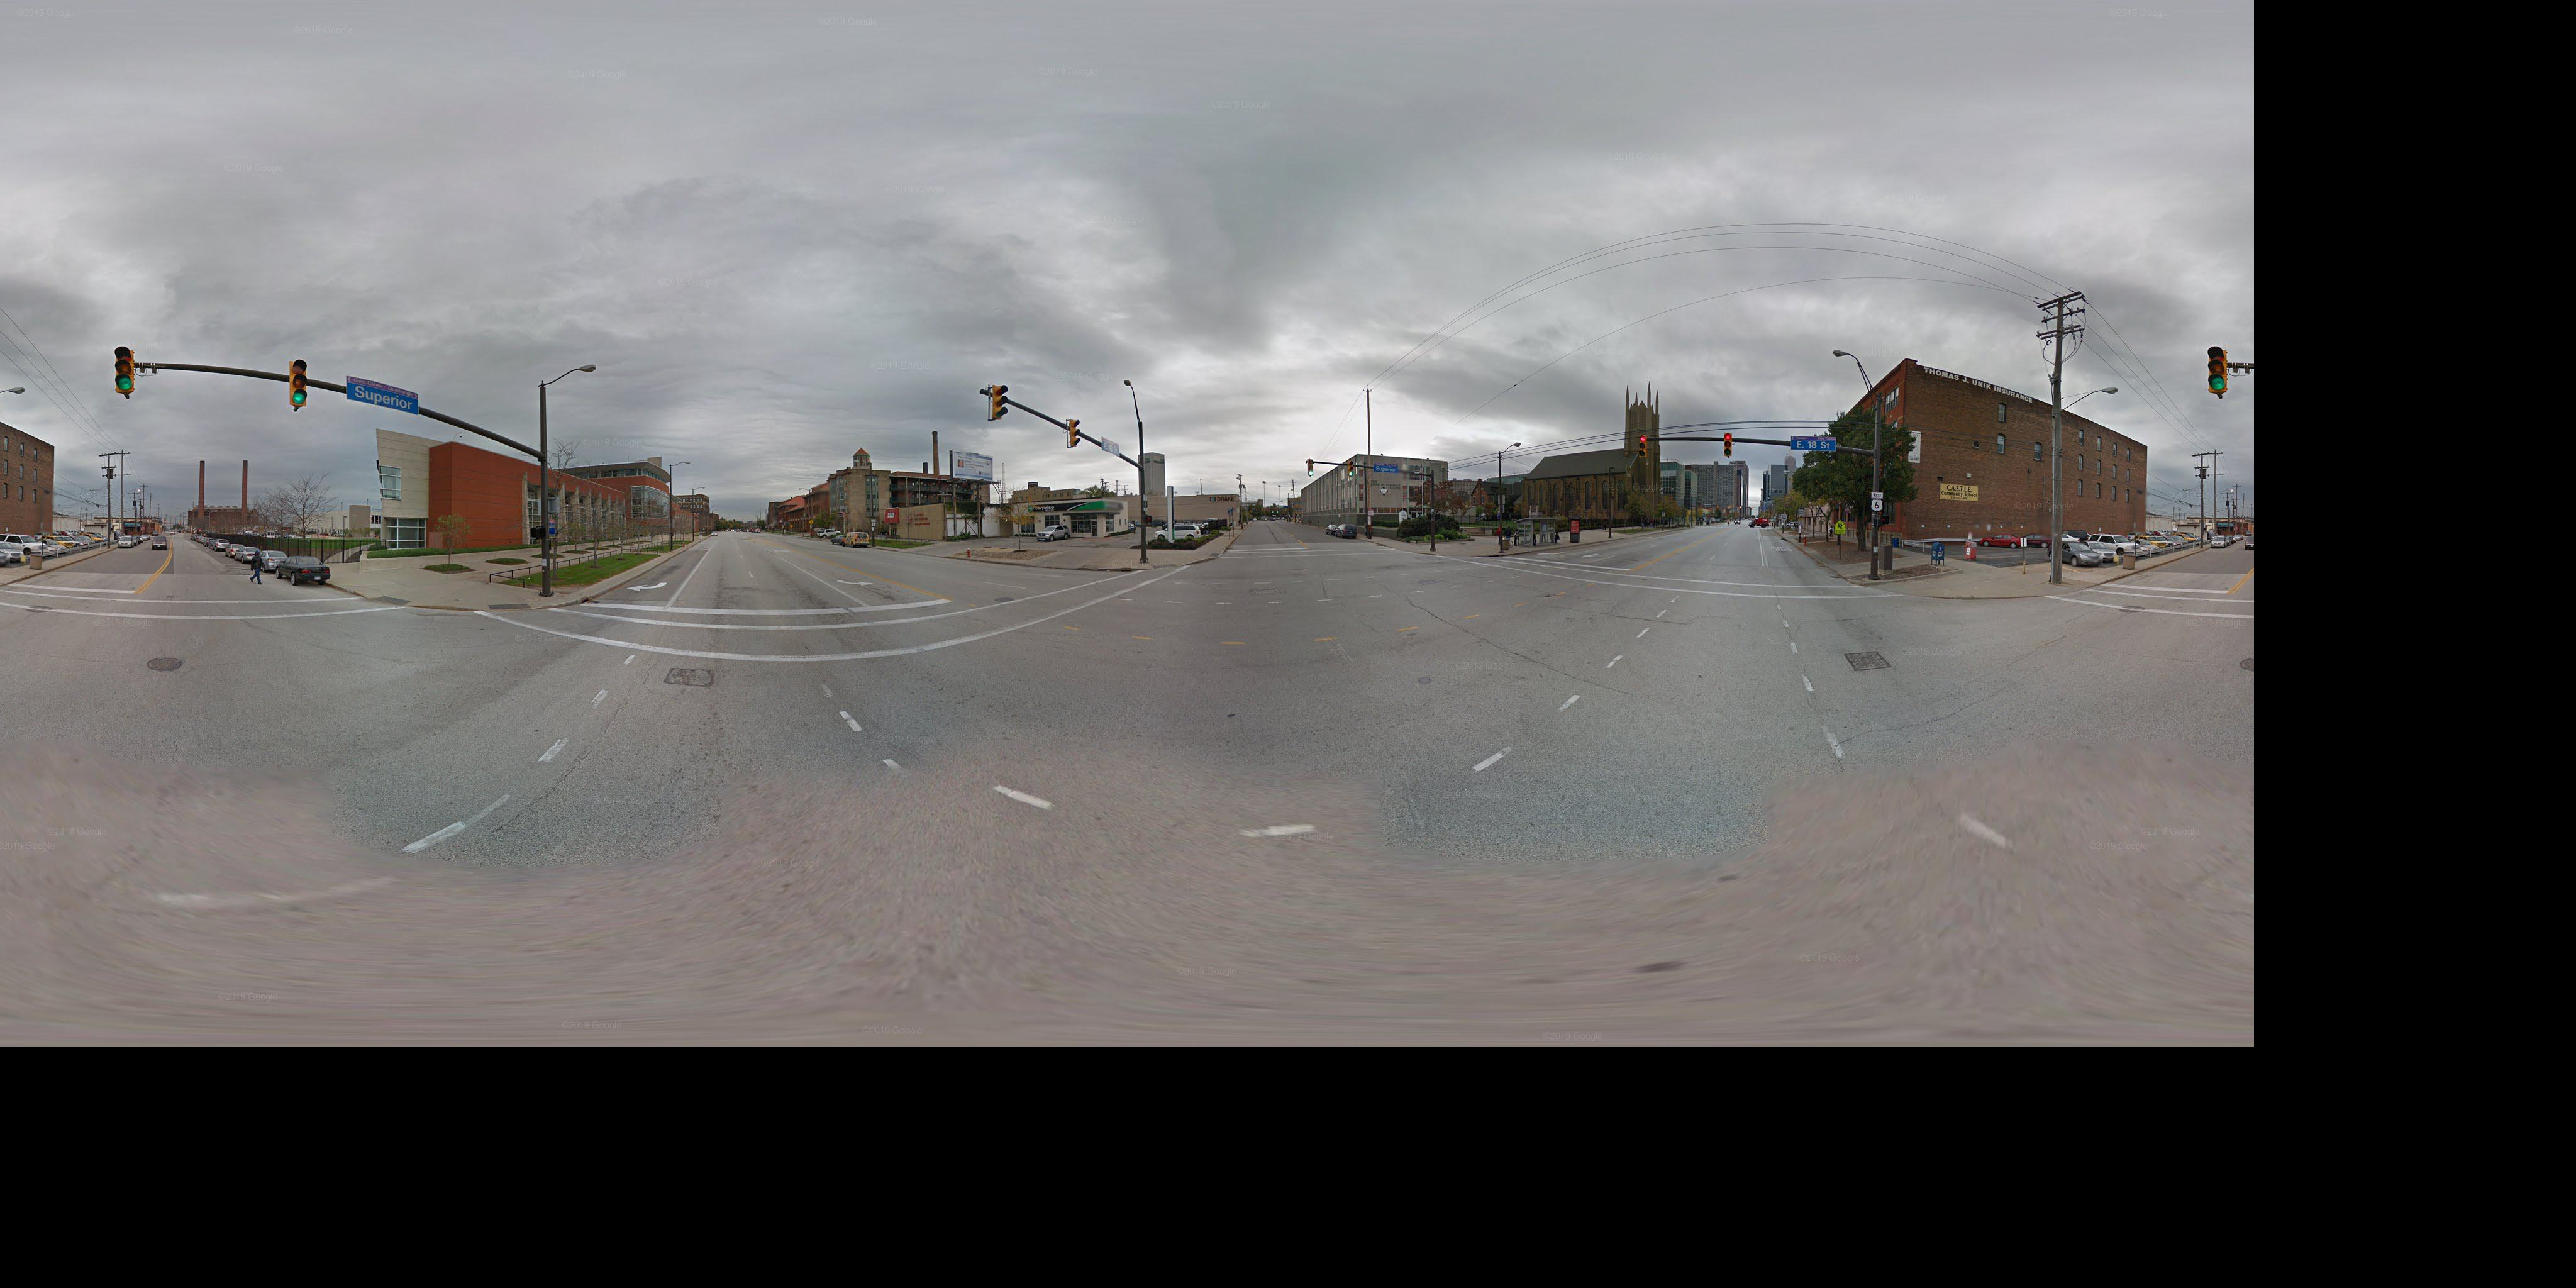Curb Ramp: (480, 595, 532, 613), (1868, 578, 1912, 600), (370, 590, 411, 611), (2042, 578, 2080, 598), (1145, 555, 1178, 573), (1204, 550, 1226, 562), (1442, 550, 1470, 559), (1398, 545, 1416, 555)
